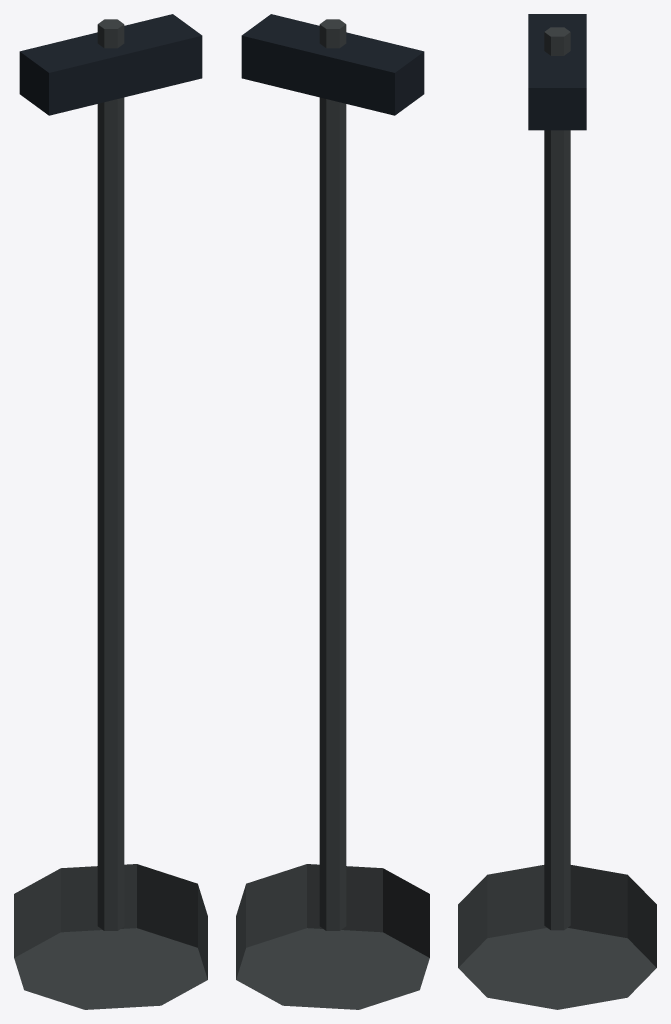
File: drip_stand.glb
3 views of the same model, side by side, from view 1: azimuth 30°, elevation 25°; view 2: azimuth 150°, elevation 25°; view 3: azimuth 270°, elevation 25° (orthographic).
Parts seen in each view (by area): view 1: body; view 2: body; view 3: body.
Part boxes in pixels (bbox=[...]): body: bbox=[14, 14, 207, 1009]; body: bbox=[236, 14, 429, 1009]; body: bbox=[458, 14, 656, 1009].
Bounding box in the file's own units: 0.34 × 1.77 × 0.34.
Materials: 1 (1 with a texture image).
